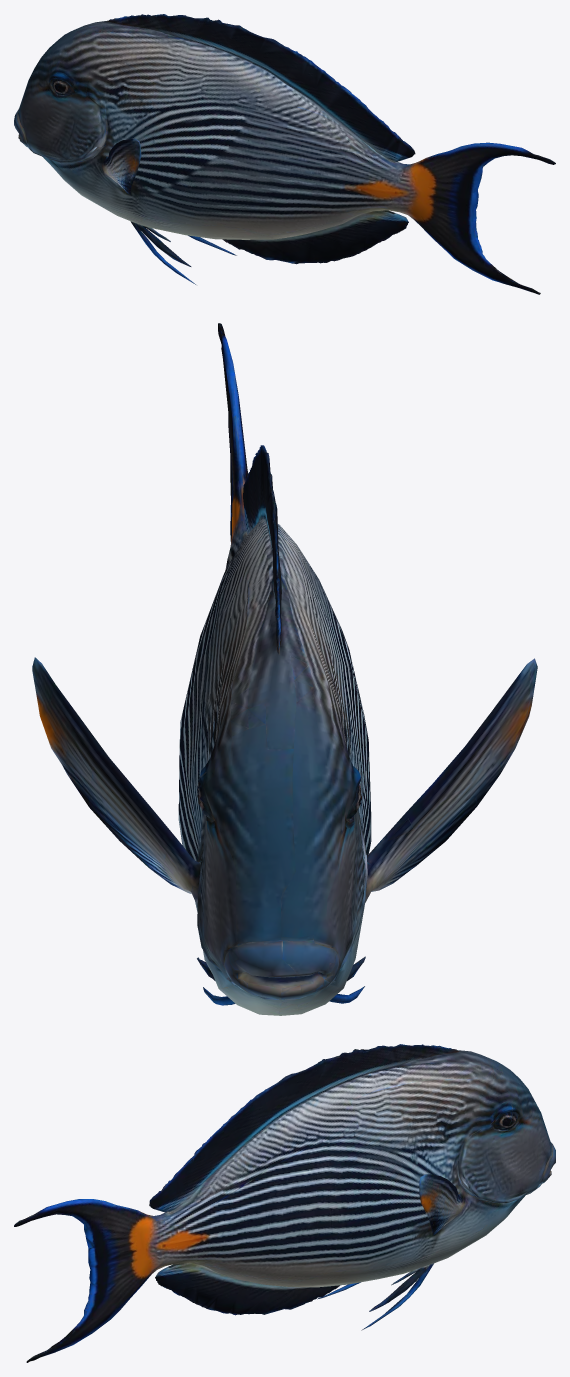
File: sohal.glb
3 renders of one model, top to bottom at view 1: azimuth 30°, elevation 25°; view 2: azimuth 150°, elevation 25°; view 3: azimuth 270°, elevation 25°, orthographic. The views are drawn at different scales.
Parts seen in each view (by area): view 1: tripo_node_b0181cbd-e84a-41ee-89db-96709c8479de; view 2: tripo_node_b0181cbd-e84a-41ee-89db-96709c8479de; view 3: tripo_node_b0181cbd-e84a-41ee-89db-96709c8479de.
Part boxes in pixels (<box>): tripo_node_b0181cbd-e84a-41ee-89db-96709c8479de: <box>14,14,555,294</box>; tripo_node_b0181cbd-e84a-41ee-89db-96709c8479de: <box>32,323,537,1015</box>; tripo_node_b0181cbd-e84a-41ee-89db-96709c8479de: <box>14,1044,555,1362</box>.
Size of the model in its own units: 0.3764 by 0.3 by 0.5575.
Materials: 1 (1 with a texture image).
